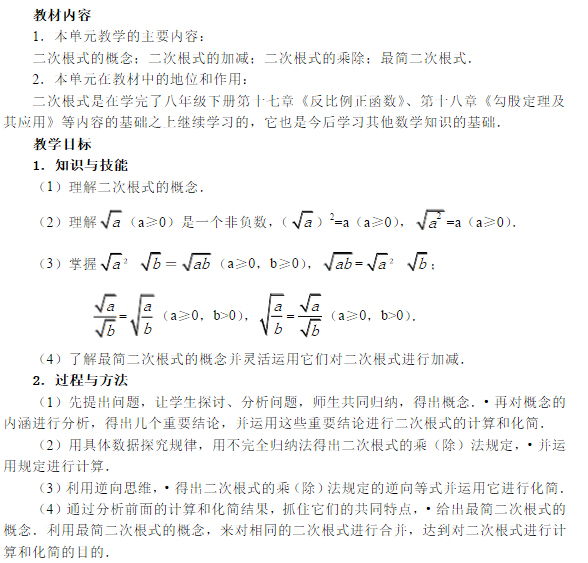division: (296, 313, 329, 321), (90, 314, 120, 321), (141, 315, 156, 323), (270, 313, 282, 322)
sqrt: (129, 292, 161, 335), (262, 292, 288, 337), (322, 245, 356, 272), (100, 249, 129, 276), (100, 203, 124, 235), (288, 206, 319, 230), (182, 250, 212, 274), (367, 249, 394, 275), (416, 207, 447, 229), (94, 316, 121, 340), (92, 293, 121, 312), (300, 292, 325, 314), (142, 250, 163, 276), (407, 249, 429, 272), (302, 317, 323, 340)
square: (435, 210, 442, 222), (122, 257, 129, 266), (330, 211, 334, 221), (390, 255, 393, 265)
